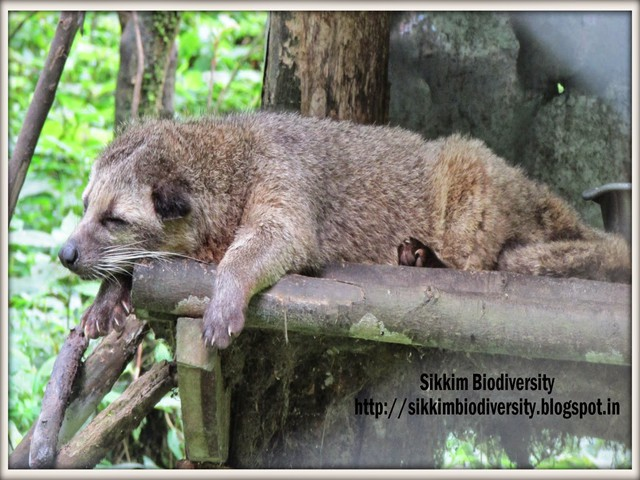civet: (58, 106, 623, 350)
